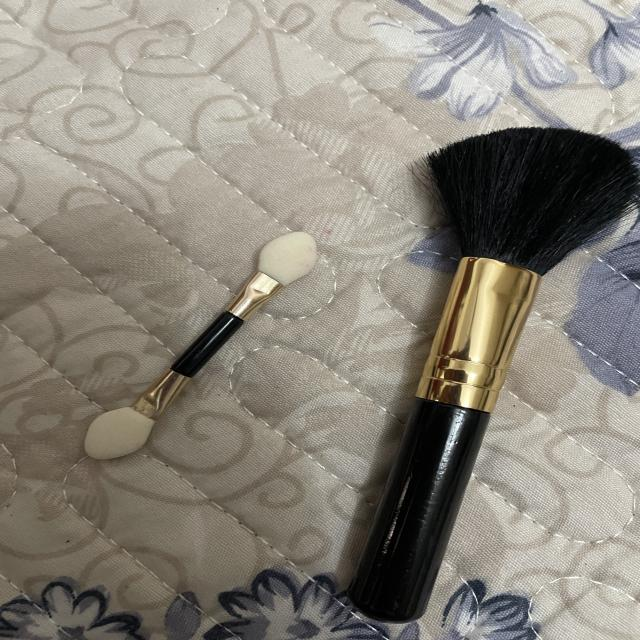beauty blender: (67, 215, 337, 470)
brush: (339, 120, 640, 630)
